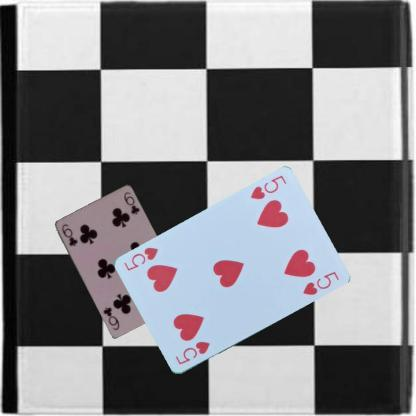5h: (247, 172, 288, 202), (172, 339, 212, 366)
6c: (58, 222, 78, 248)
